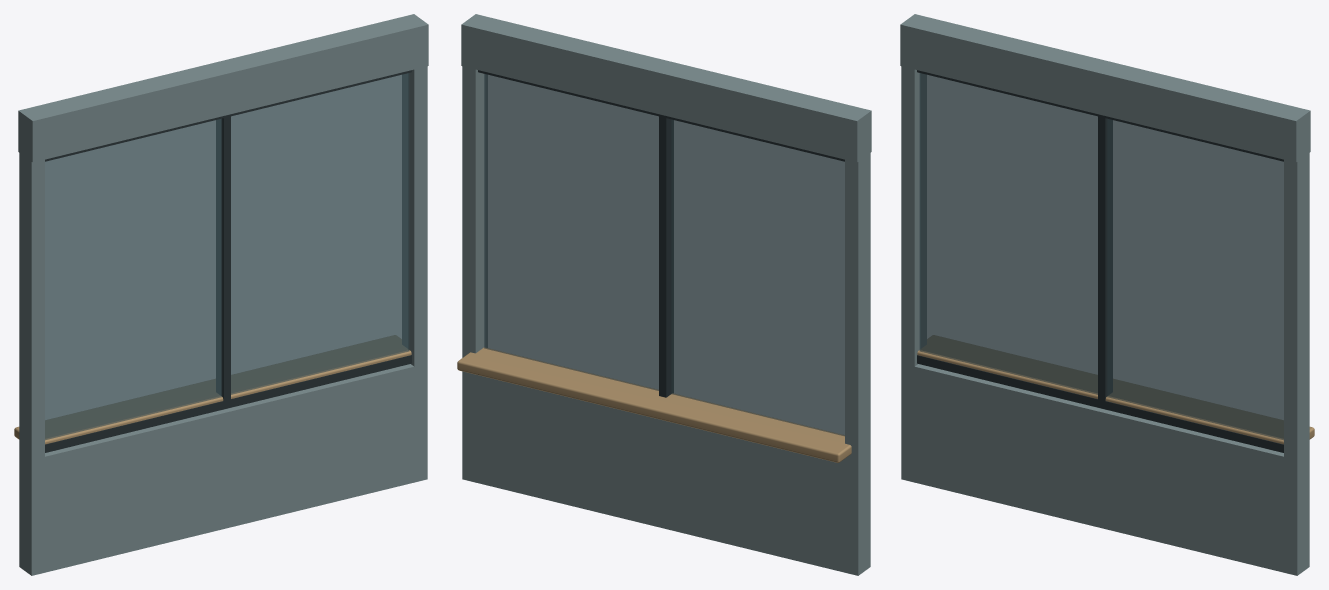
The model's file is terminal_glazed_bay_3m.glb.
3 renders of one model, left to right at view 1: azimuth 30°, elevation 25°; view 2: azimuth 150°, elevation 25°; view 3: azimuth 330°, elevation 25°, orthographic.
Visible parts, largest first — view 1: terminal_glazed_bay_3m__Optical ferry glass, terminal_glazed_bay_3m__Deep petrol painted steel, terminal_glazed_bay_3m__Fixed_BlackHousing, terminal_glazed_bay_3m__Pallet timber; view 2: terminal_glazed_bay_3m__Optical ferry glass, terminal_glazed_bay_3m__Deep petrol painted steel, terminal_glazed_bay_3m__Pallet timber, terminal_glazed_bay_3m__Fixed_BlackHousing; view 3: terminal_glazed_bay_3m__Optical ferry glass, terminal_glazed_bay_3m__Deep petrol painted steel, terminal_glazed_bay_3m__Fixed_BlackHousing, terminal_glazed_bay_3m__Pallet timber.
Boxes of the visible parts, x1,y1,x2,y2 form: terminal_glazed_bay_3m__Optical ferry glass: [45, 73, 409, 440]; terminal_glazed_bay_3m__Deep petrol painted steel: [18, 14, 428, 575]; terminal_glazed_bay_3m__Fixed_BlackHousing: [45, 70, 411, 452]; terminal_glazed_bay_3m__Pallet timber: [14, 335, 411, 444]; terminal_glazed_bay_3m__Optical ferry glass: [484, 74, 844, 436]; terminal_glazed_bay_3m__Deep petrol painted steel: [461, 14, 871, 575]; terminal_glazed_bay_3m__Pallet timber: [457, 347, 851, 462]; terminal_glazed_bay_3m__Fixed_BlackHousing: [478, 70, 844, 397]; terminal_glazed_bay_3m__Optical ferry glass: [919, 73, 1283, 440]; terminal_glazed_bay_3m__Deep petrol painted steel: [900, 14, 1310, 575]; terminal_glazed_bay_3m__Fixed_BlackHousing: [917, 70, 1283, 452]; terminal_glazed_bay_3m__Pallet timber: [917, 335, 1314, 444].
Size of the model in its own units: 3 by 3.3 by 0.34.
